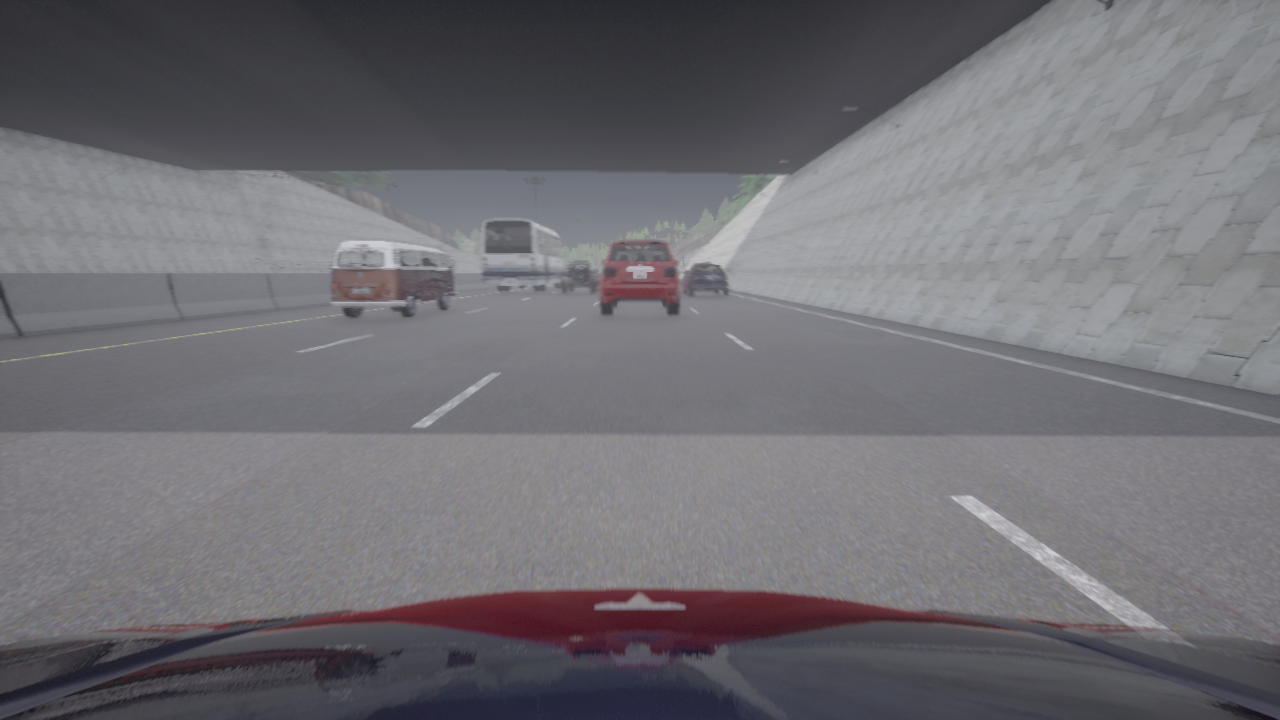cyclist: (0, 588, 1279, 719), (330, 240, 456, 317), (481, 218, 566, 291), (600, 240, 679, 316), (682, 261, 729, 296), (560, 262, 599, 293)
